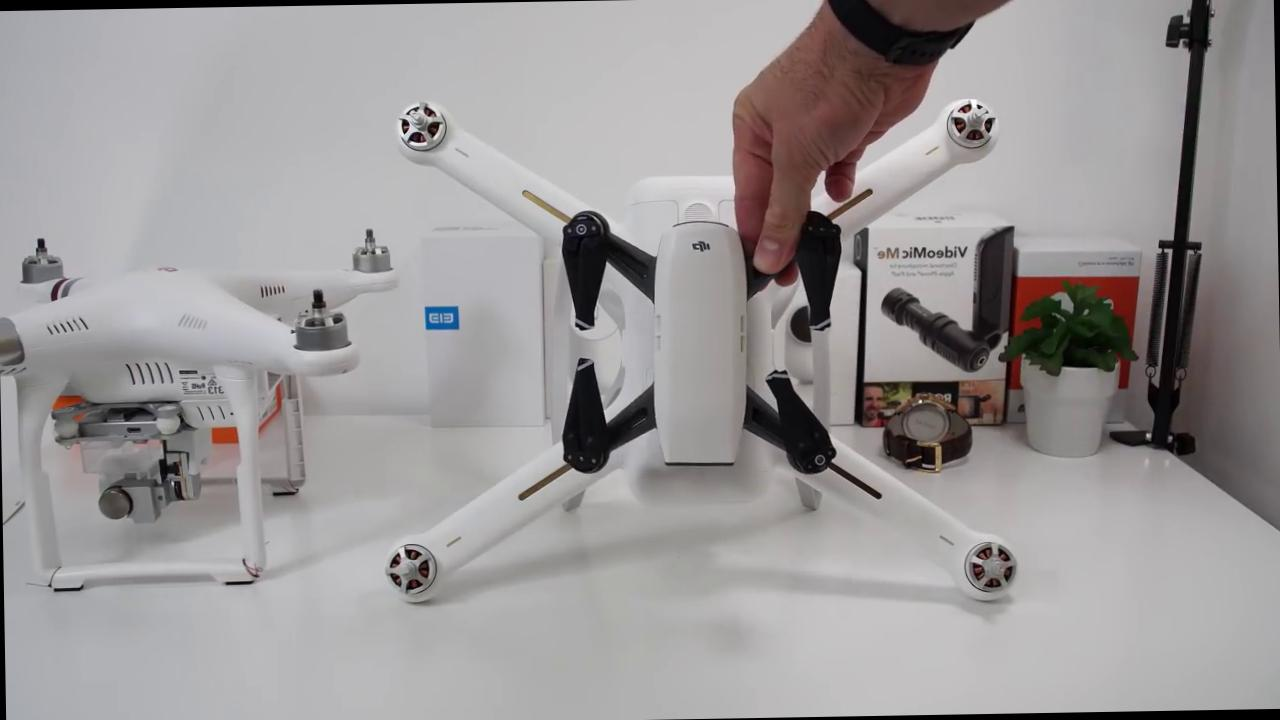drone: (362, 61, 1044, 618), (0, 215, 402, 402)
